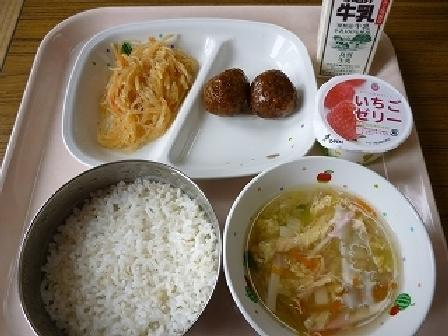Cup desserts: (313, 71, 415, 165)
Milk: (311, 1, 400, 75)
Rice: (34, 158, 218, 335)
Soups: (226, 169, 431, 335)
cutlet: (197, 56, 302, 134)
salad with sauce: (87, 37, 196, 140)
